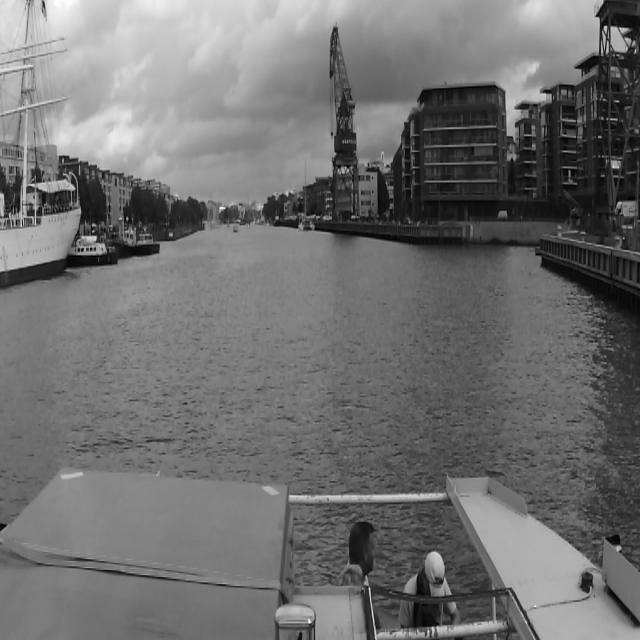ship: (3, 5, 71, 287), (72, 229, 118, 267), (300, 155, 314, 231), (136, 230, 158, 255), (119, 225, 133, 259), (233, 226, 238, 234)
